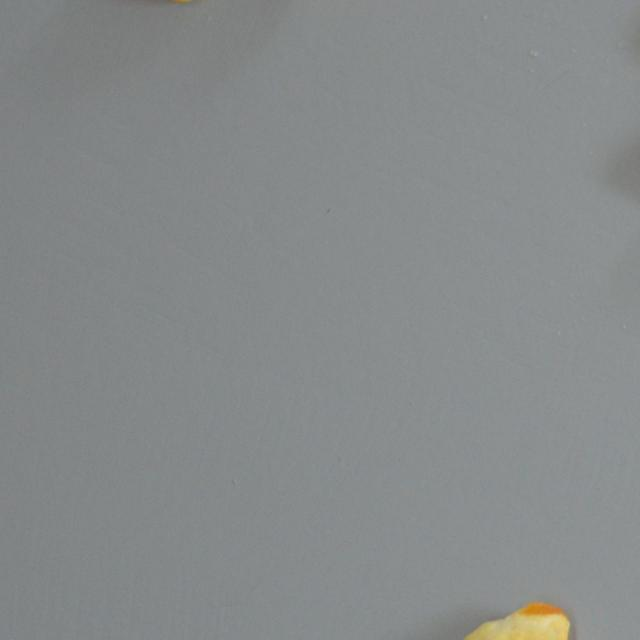pelicula: (458, 598, 570, 640)
